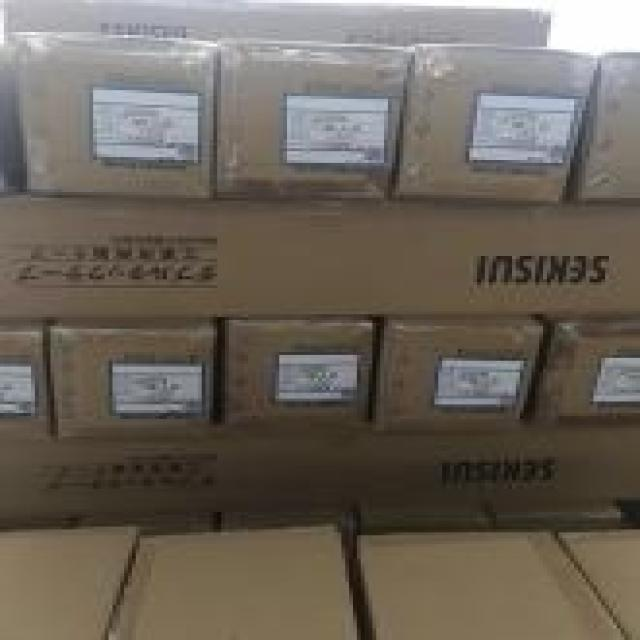box: (4, 3, 548, 193), (0, 193, 635, 323), (1, 425, 636, 518), (25, 29, 215, 199), (209, 40, 413, 197), (399, 44, 602, 201), (110, 520, 357, 637), (358, 529, 623, 636), (48, 322, 220, 434), (368, 319, 541, 429), (216, 321, 377, 427), (0, 526, 146, 634), (525, 320, 636, 427), (571, 55, 636, 204), (555, 532, 636, 637), (0, 321, 57, 439), (487, 500, 630, 536), (359, 502, 495, 532), (215, 513, 358, 535), (70, 512, 217, 528), (8, 514, 78, 526)
